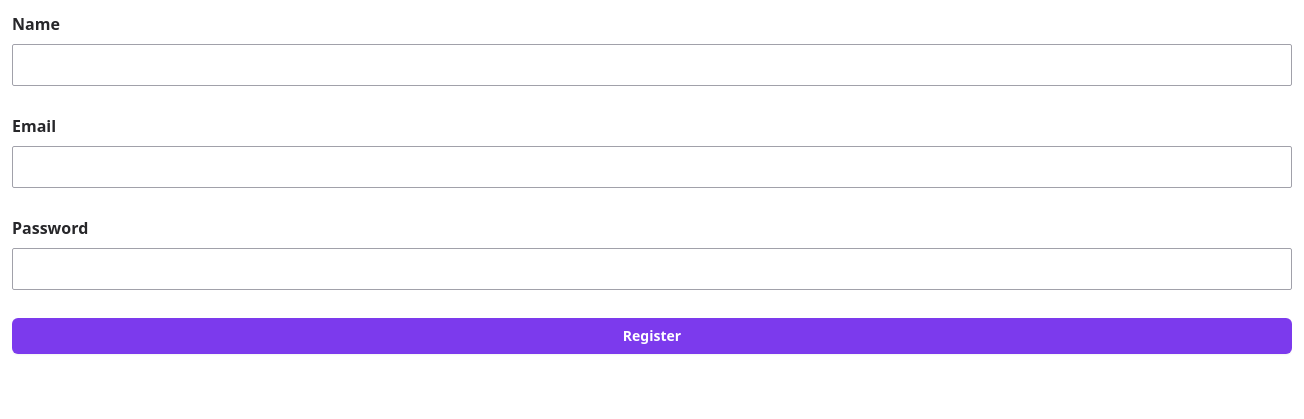
Test: Register Form › should display required error when value is invalid
What coordinates should you click on to do the following:
click the button "Register"
I would click on:
 (652, 336)
Its box is [12,318,1292,354].
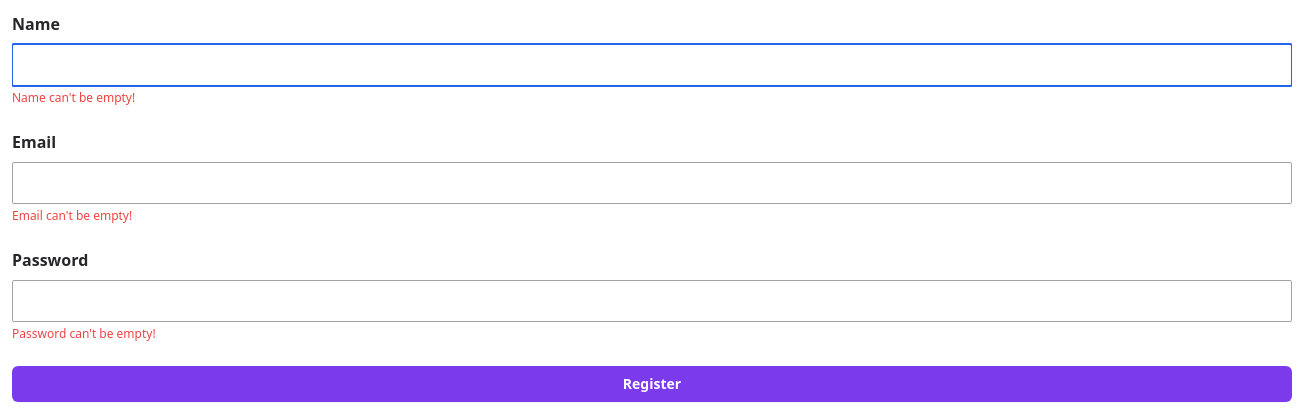
Expected: the number of messages is 3, [12,89,135,106]; [12,207,132,224]; [12,325,156,342]
